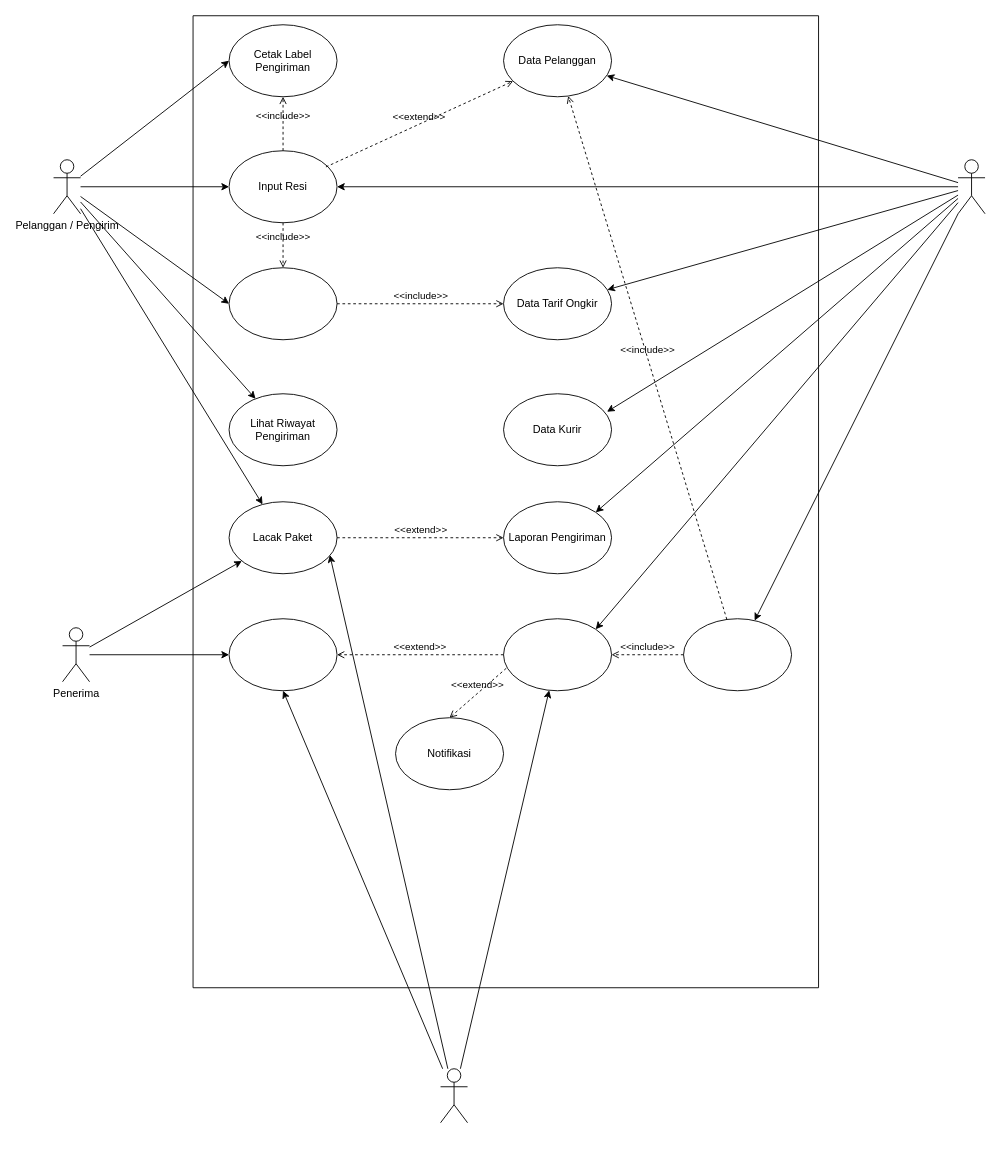
The diagram is 1003 pixels wide and 1171 high, and some of its shapes have lost their labels. The shapes that lost their labels are listed below. From the top down, each one's centre as x and y in pixels, then its label:
At point 971,186: "Admin".
At point 282,303: "Hitung Ongkir".
At point 282,654: "Konfirmasi Penerimaan".
At point 557,654: "Update Status Pengiriman".
At point 737,654: "Paket Bermasalah".
At point 454,1095: "Kurir".
